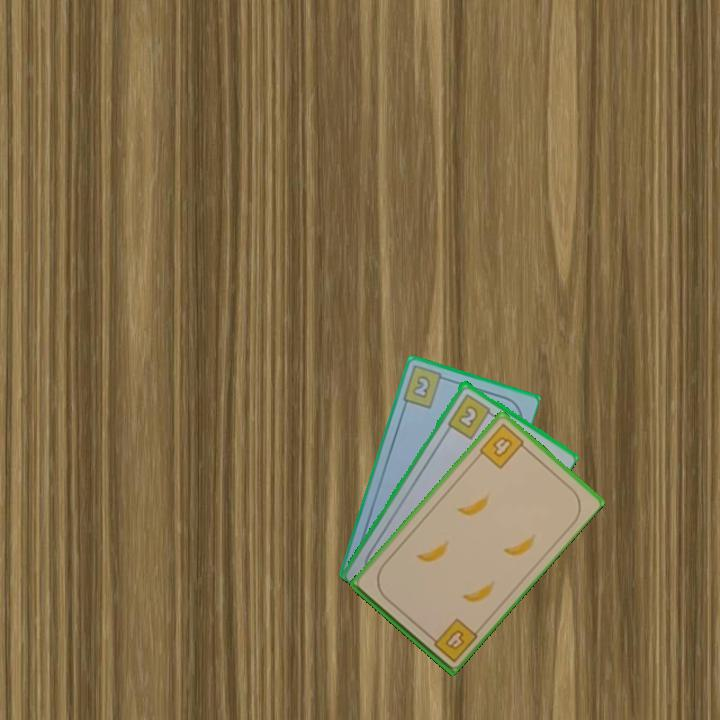2b: (444, 390, 497, 442), (399, 362, 451, 411)
4b: (475, 420, 531, 472), (424, 614, 480, 665)
